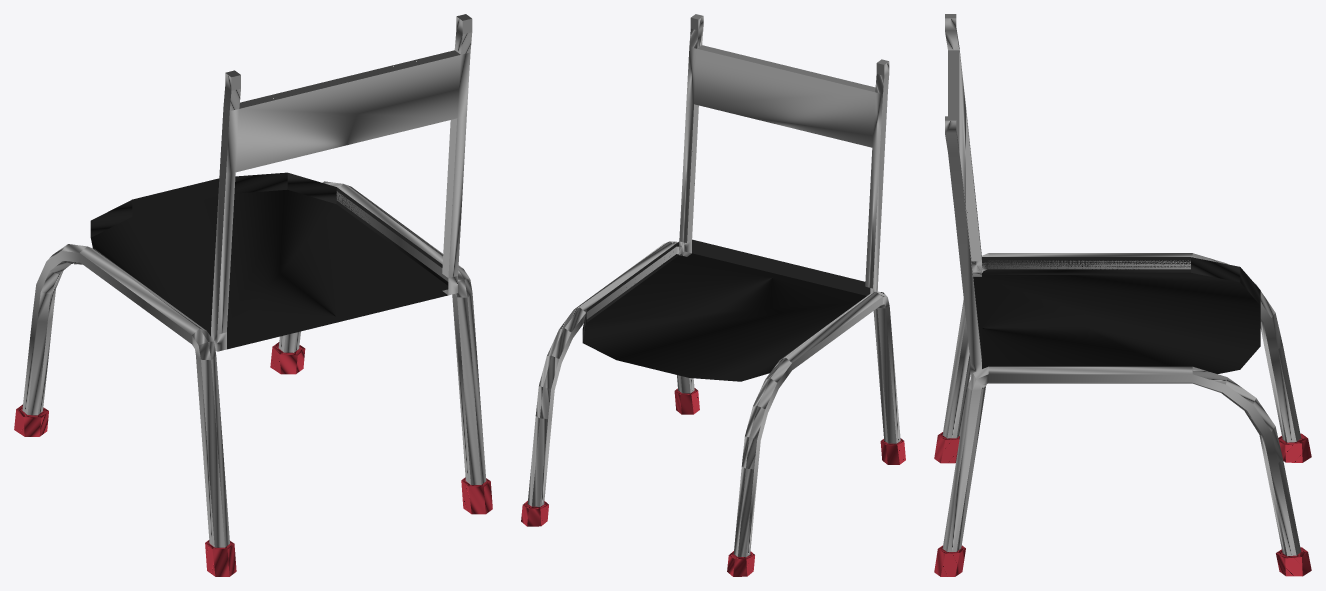
File: Chair 8.fbx
3 renders of one model, left to right at view 1: azimuth 30°, elevation 25°; view 2: azimuth 150°, elevation 25°; view 3: azimuth 270°, elevation 25°, orthographic. The views are drawn at different scales.
Parts seen in each view (by area): view 1: Node 0; view 2: Node 0; view 3: Node 0.
Part boxes in pixels (x1,y1,x2,y2): Node 0: [14, 14, 492, 576]; Node 0: [521, 14, 905, 576]; Node 0: [934, 14, 1311, 576].
Size of the model in its own units: 0.6411 by 1.07 by 0.8196.
